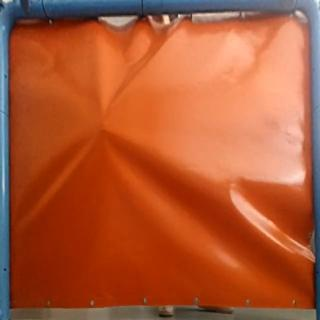Hit-hRxx: (96, 115, 112, 134)
